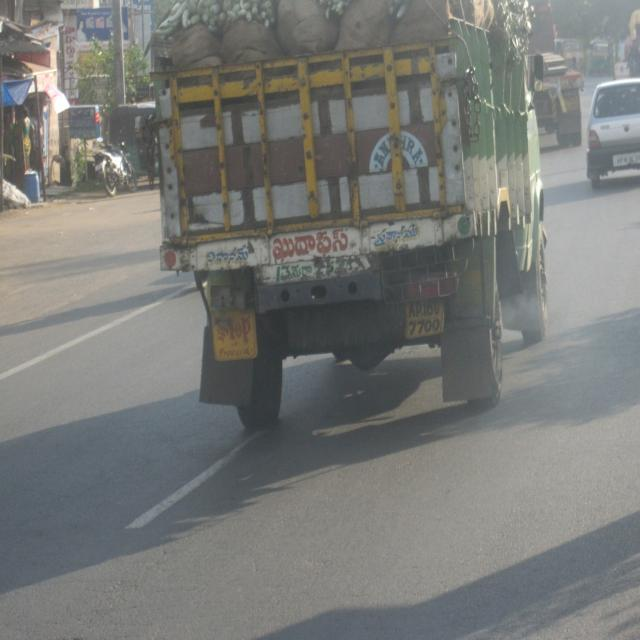car_back: (579, 76, 640, 199)
truck_back: (136, 0, 551, 436)
